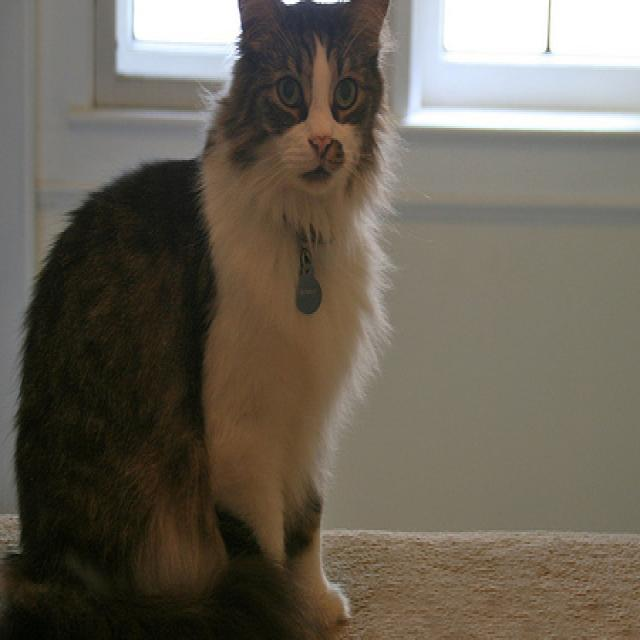Maine Coon: (0, 0, 404, 640)
